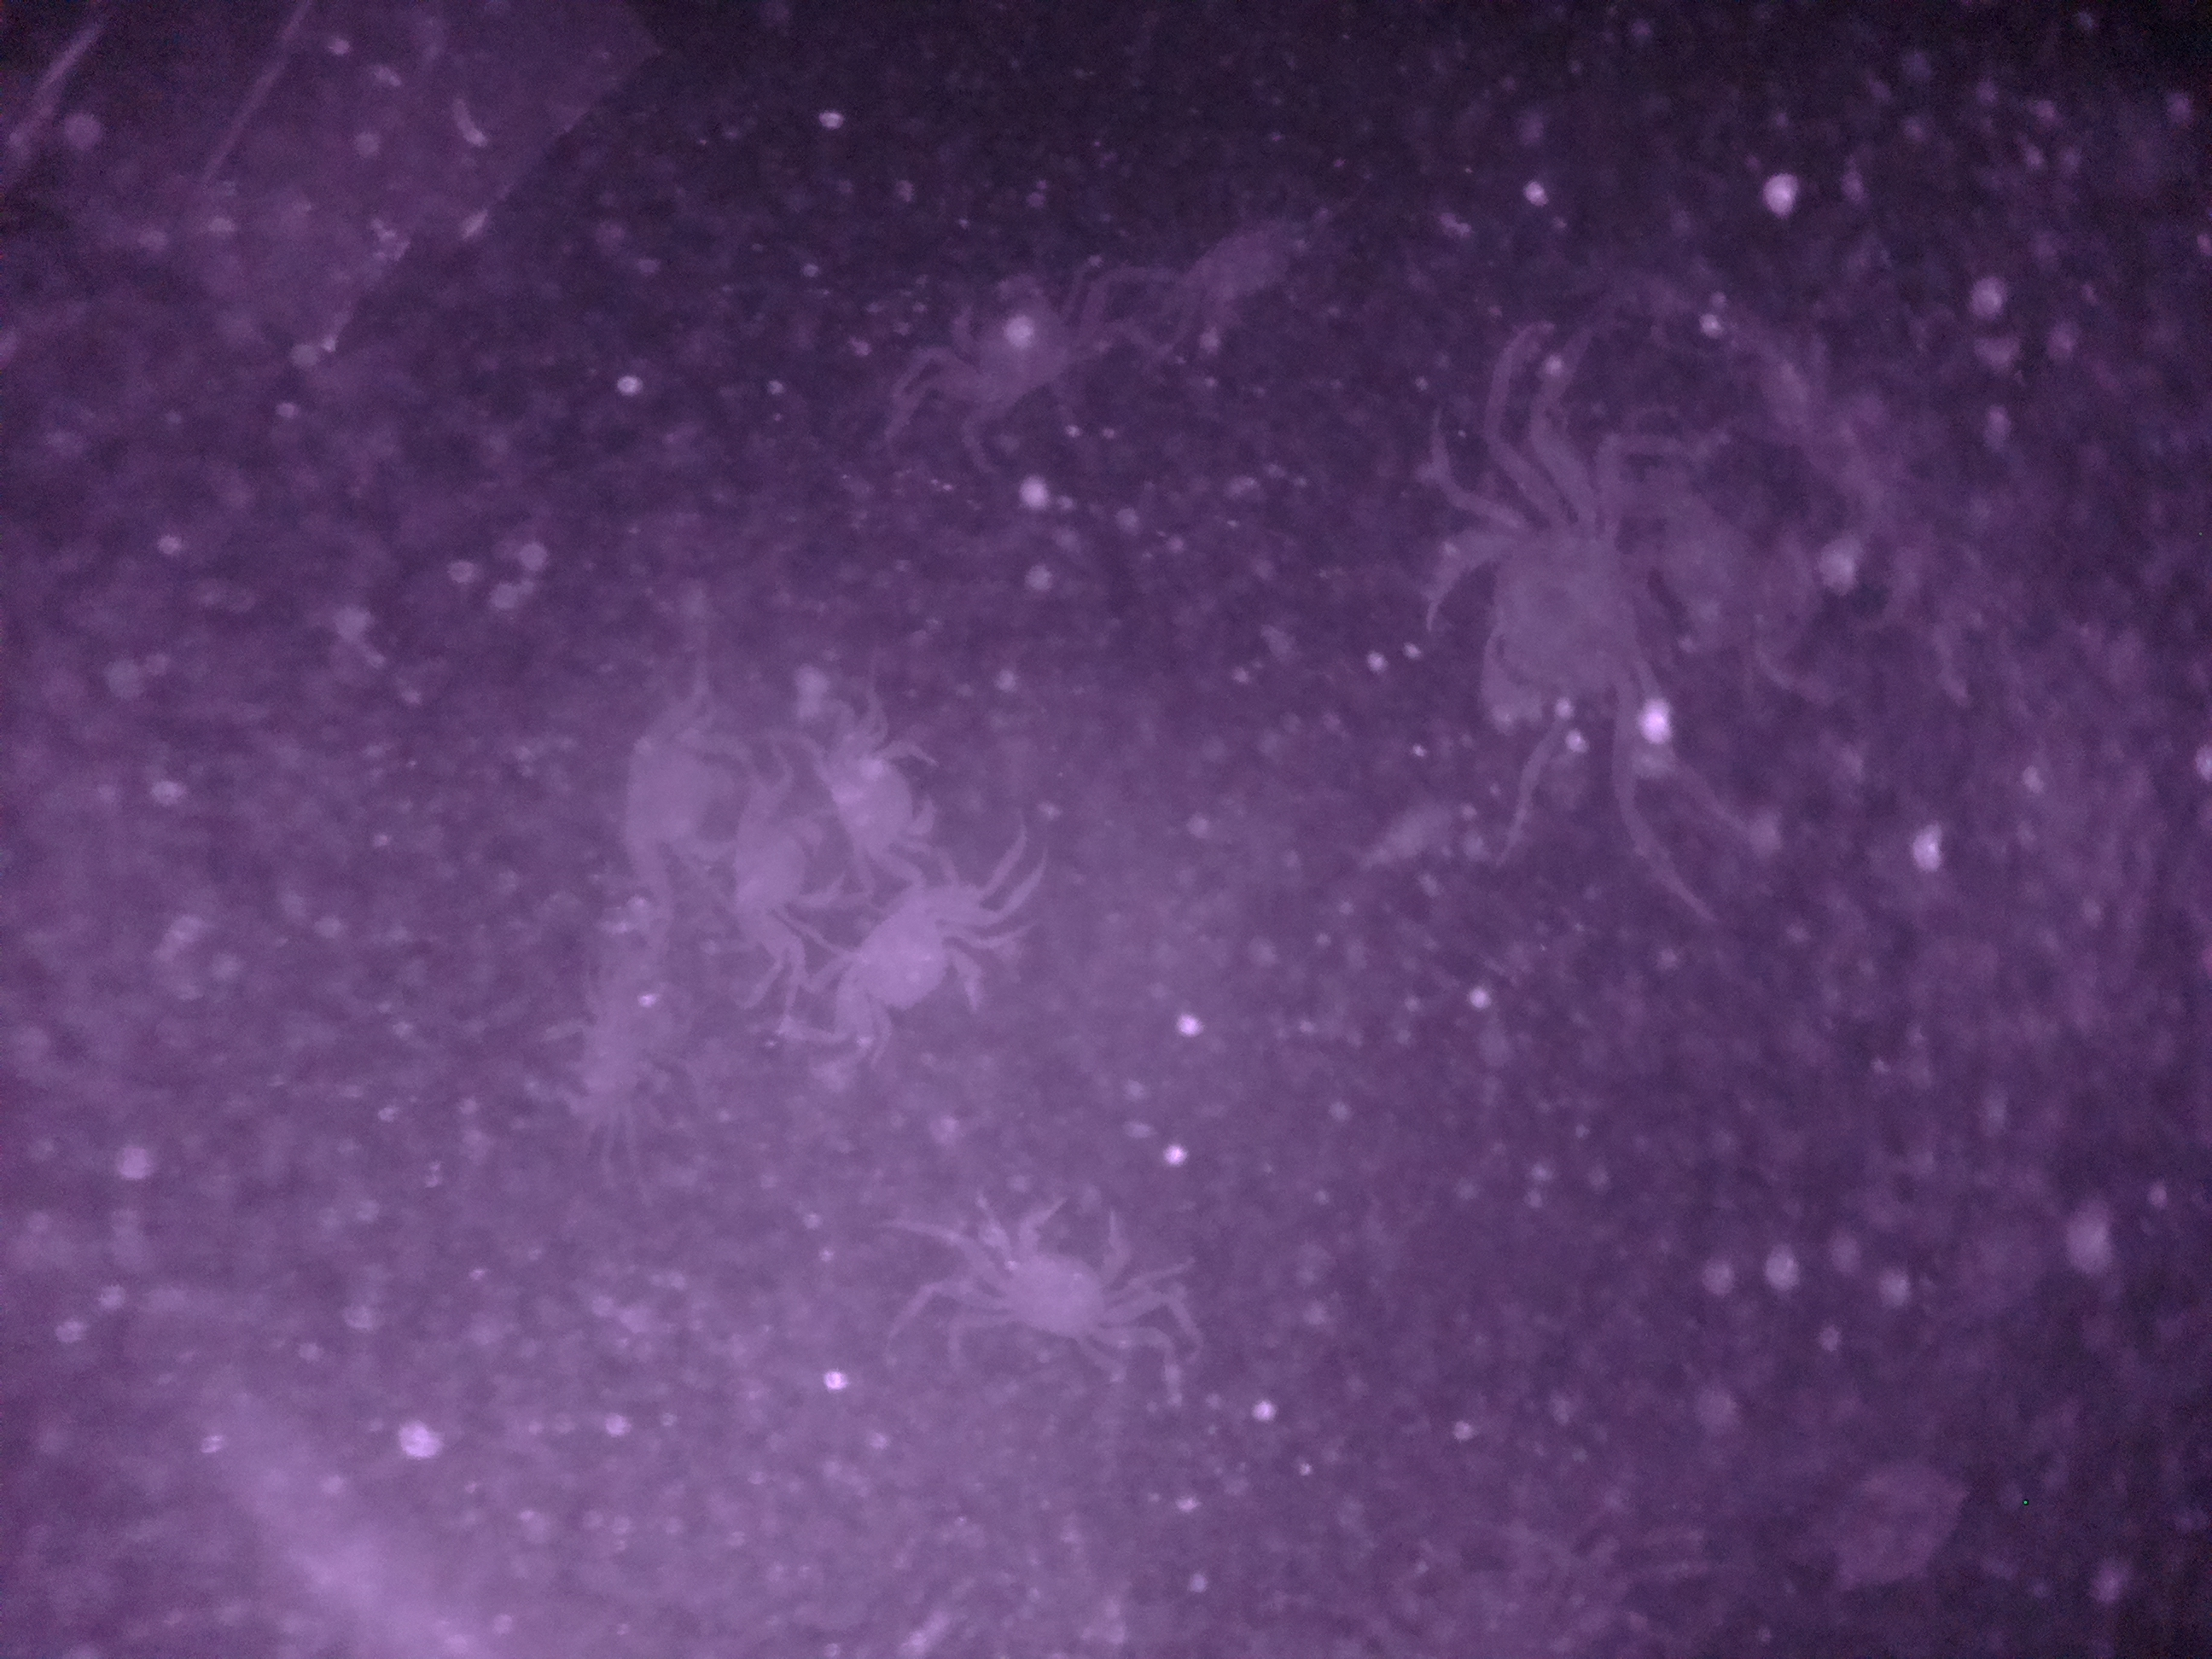Crab: (1406, 455, 1681, 777), (786, 850, 1049, 1084), (961, 1161, 1167, 1371)
